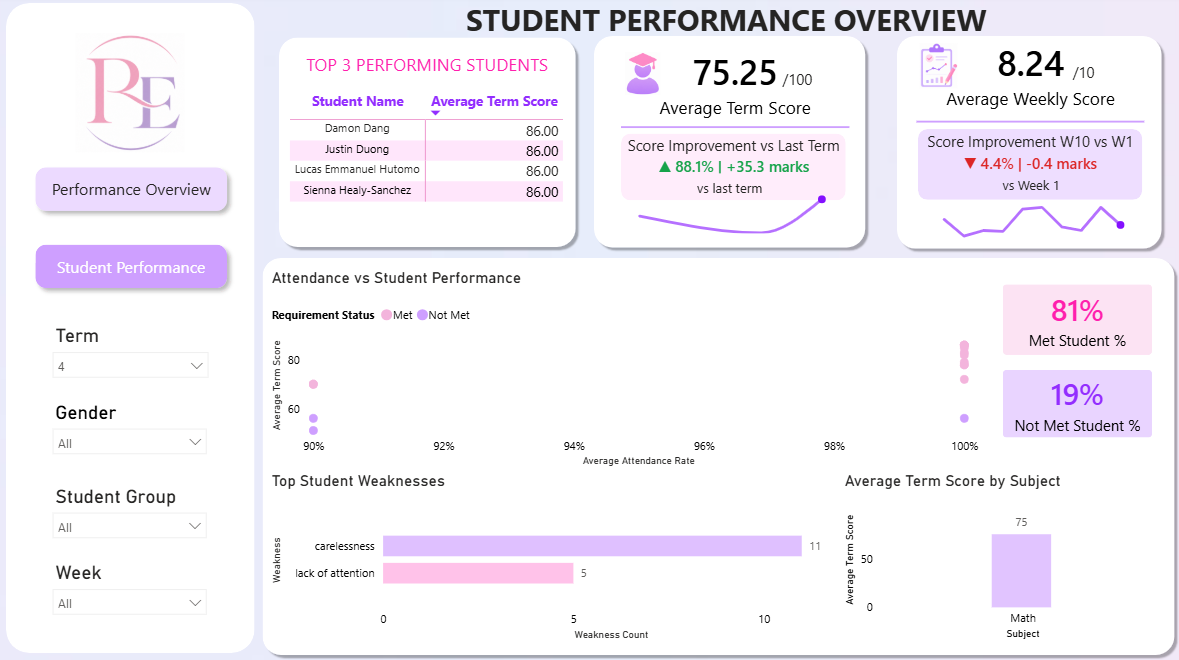

The page's visual inventory and layout, read from the dashboard file:
{"tool":"powerbi","page":{"name":"Student Performance","canvas":[1280,720],"ordinal":1},"visuals":[{"type":"shape","box":[968.3,37.7,298.3,242.3],"z":0,"group":"g1"},{"type":"shape","box":[997.2,145.4,242,76.5],"z":0,"group":"g6"},{"type":"shape","box":[678.4,150.8,242.7,72.2],"z":0,"group":"g4"},{"type":"shape","box":[282.9,278.6,997.1,441.4],"z":0},{"type":"textbox","box":[68.9,43.3,101.7,33.3],"z":1000},{"type":"shape","box":[13.3,10,268.3,701.7],"z":2000},{"type":"shape","box":[301,40,333,239],"z":2000,"group":"g3"},{"type":"pageNavigator","box":[35.6,178.1,225,148.3],"z":3000},{"type":"textbox","box":[301.7,0,978.3,60],"z":4000},{"type":"shape","box":[642,38.9,305.6,241.1],"z":5000,"group":"g2"},{"type":"image","box":[34,42.1,225.7,128.6],"z":5000},{"type":"slicer","fields":{"Values":["Enrolment.term"]},"box":[54,352,188,72],"z":6000},{"type":"slicer","fields":{"Values":["Enrolment.gender"]},"box":[54,434,186.2,64.8],"z":7000},{"type":"slicer","fields":{"Values":["Enrolment.Student Group"]},"box":[54,524,186,70],"z":8000},{"type":"slicer","fields":{"Values":["Result.week_number"]},"box":[53.4,607.2,186.2,74.5],"z":9000},{"type":"group","id":"g1","title":"Group 4","box":[968.3,30,298.3,250],"z":10000},{"type":"cardVisual","fields":{"Data":["Result.Average Term Score"]},"box":[681.1,40.5,241,114.9],"z":10000,"group":"g2"},{"type":"group","id":"g2","title":"Group 5","box":[642,38.9,305.6,241.1],"z":11000},{"type":"group","id":"g3","title":"Group 6","box":[301,40,333,239],"z":12000},{"type":"shape","box":[677.1,133.7,246.6,18.6],"z":12000,"group":"g2"},{"type":"barChart","title":"Top Student Weaknesses","fields":{"Category":["Enrolment.weakness"],"Y":["Enrolment.Weakness Count"]},"box":[294.3,514.3,630,187.1],"z":13000},{"type":"group","id":"g4","title":"Group 2","box":[675.1,147.5,250.1,75.5],"z":14000,"group":"g5"},{"type":"columnChart","title":"Average Term Score by Subject","fields":{"Y":["Result.Average Term Score"],"Category":["Enrolment.subject"]},"box":[912.9,514.3,354.6,186.2],"z":14000},{"type":"textbox","box":[840.7,75.5,53.6,37.7],"z":15000,"group":"g2"},{"type":"cardVisual","fields":{"Data":["Result.Weekly Score Improvement Summary"]},"box":[994,153.8,249.3,55.3],"z":15000,"group":"g6"},{"type":"cardVisual","fields":{"Data":["Enrolment.Score Improvement Summary"]},"box":[675.2,158.8,250,52.2],"z":15000,"group":"g4"},{"type":"textbox","box":[745.5,194.2,102.1,32.8],"z":15000,"group":"g5"},{"type":"scatterChart","title":"Attendance vs Student Performance","fields":{"X":["Enrolment.attendance_rate"],"Y":["Result.Average Term Score"],"Category":["Student.student_name"],"Series":["Result.requirement_status"]},"box":[294.3,295.7,777.1,218.6],"z":15000},{"type":"cardVisual","fields":{"Data":["Enrolment.Met Student %"]},"box":[1071.4,295.7,195.7,110],"z":16000},{"type":"image","box":[675.4,63.9,50.2,46],"z":17000,"group":"g2"},{"type":"textbox","box":[993.9,141.9,249.2,40.6],"z":17000,"group":"g6"},{"type":"textbox","box":[675.1,147.5,249.9,38.3],"z":17000,"group":"g4"},{"type":"cardVisual","fields":{"Data":["Enrolment.Not Met Student %"]},"box":[1071.4,388.6,195.7,107.1],"z":17000},{"type":"group","id":"g5","title":"Group 1","box":[675.1,147.5,251,78.8],"z":19000,"group":"g2"},{"type":"lineChart","fields":{"Category":["Enrolment.term"],"Y":["Result.Average Term Score"]},"box":[683.2,202.3,226.7,61.1],"z":19500,"group":"g2"},{"type":"textbox","box":[325.3,58.6,284.3,37.1],"z":20000,"group":"g3"},{"type":"pivotTable","fields":{"Rows":["Student.student_name"],"Values":["Result.Average Term Score"]},"box":[314,98,307,154],"z":21000,"group":"g3"},{"type":"cardVisual","fields":{"Data":["Result.Average Weekly Score"]},"box":[999.2,30,240.3,121.7],"z":22000,"group":"g1"},{"type":"shape","box":[995.9,127.3,245.9,19.7],"z":23000,"group":"g1"},{"type":"textbox","box":[1149.6,67.8,53.4,40],"z":25000,"group":"g1"},{"type":"group","id":"g6","title":"Group 3","box":[993.9,141.9,249.3,80.3],"z":25500,"group":"g1"},{"type":"image","box":[994.1,53.4,50.1,48.7],"z":26000,"group":"g1"},{"type":"textbox","box":[1068,189.9,101.8,34.8],"z":27500,"group":"g1"},{"type":"lineChart","fields":{"Y":["Result.Average Weekly Score"],"Category":["Result.week_number"]},"box":[1010.2,202.7,220.3,67.9],"z":28000,"group":"g1"}]}

Visuals, with their boxes in screenshot pixels (x1, y1, x2, y2), scaled from the page's 1280x720 canvas onto the 1179x660 screenshot:
shape: 892, 35, 1167, 257
shape: 919, 133, 1141, 203
shape: 625, 138, 848, 204
shape: 261, 255, 1178, 659
textbox: 63, 40, 157, 70
shape: 12, 9, 259, 652
shape: 277, 37, 584, 256
pageNavigator: 33, 163, 240, 299
textbox: 278, 0, 1178, 55
shape: 591, 36, 873, 257
image: 31, 39, 239, 156
slicer - Enrolment.term: 50, 323, 223, 389
slicer - Enrolment.gender: 50, 398, 221, 457
slicer - Enrolment.Student Group: 50, 480, 221, 544
slicer - Result.week_number: 49, 557, 221, 625
"Group 4" group: 892, 28, 1167, 257
cardVisual - Result.Average Term Score: 627, 37, 849, 142
"Group 5" group: 591, 36, 873, 257
"Group 6" group: 277, 37, 584, 256
shape: 624, 123, 851, 140
"Top Student Weaknesses" barChart: 271, 471, 851, 643
"Group 2" group: 622, 135, 852, 204
"Average Term Score by Subject" columnChart: 841, 471, 1167, 642
textbox: 774, 69, 824, 104
cardVisual - Result.Weekly Score Improvement Summary: 916, 141, 1145, 192
cardVisual - Enrolment.Score Improvement Summary: 622, 146, 852, 193
textbox: 687, 178, 781, 208
"Attendance vs Student Performance" scatterChart: 271, 271, 987, 471
cardVisual - Enrolment.Met Student %: 987, 271, 1167, 372
image: 622, 59, 668, 101
textbox: 915, 130, 1145, 167
textbox: 622, 135, 852, 170
cardVisual - Enrolment.Not Met Student %: 987, 356, 1167, 454
"Group 1" group: 622, 135, 853, 207
lineChart - Enrolment.term x Result.Average Term Score: 629, 185, 838, 241
textbox: 300, 54, 561, 88
pivotTable - Student.student_name x Result.Average Term Score: 289, 90, 572, 231
cardVisual - Result.Average Weekly Score: 920, 28, 1142, 139
shape: 917, 117, 1144, 135
textbox: 1059, 62, 1108, 99
"Group 3" group: 915, 130, 1145, 204
image: 916, 49, 962, 94
textbox: 984, 174, 1077, 206
lineChart - Result.Average Weekly Score x Result.week_number: 930, 186, 1133, 248
